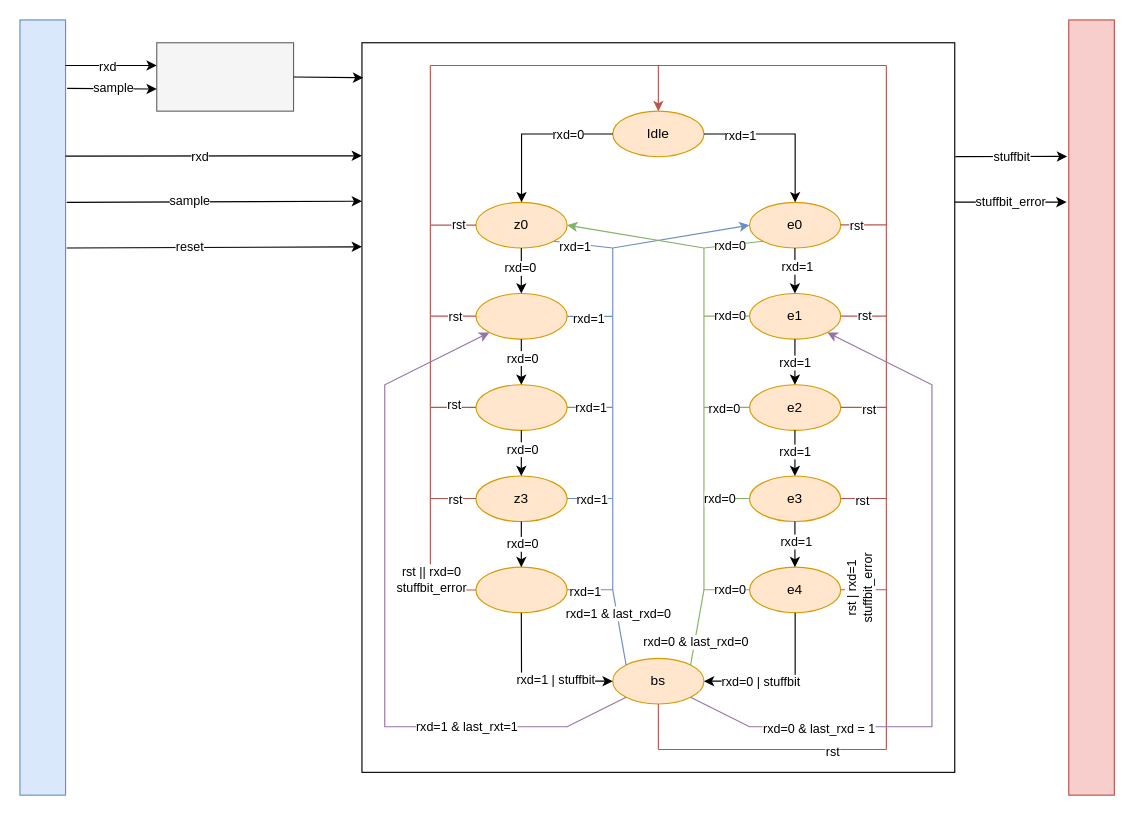
Some shapes in this 1134 by 815 pixel diagram are drawn without their labels. Here are the shapes that lost their labels. From the top down, the box of each, then its label:
(156, 42, 294, 111): Last Bit
(475, 292, 567, 339): z1
(475, 384, 567, 430): z2
(475, 566, 567, 613): z4
